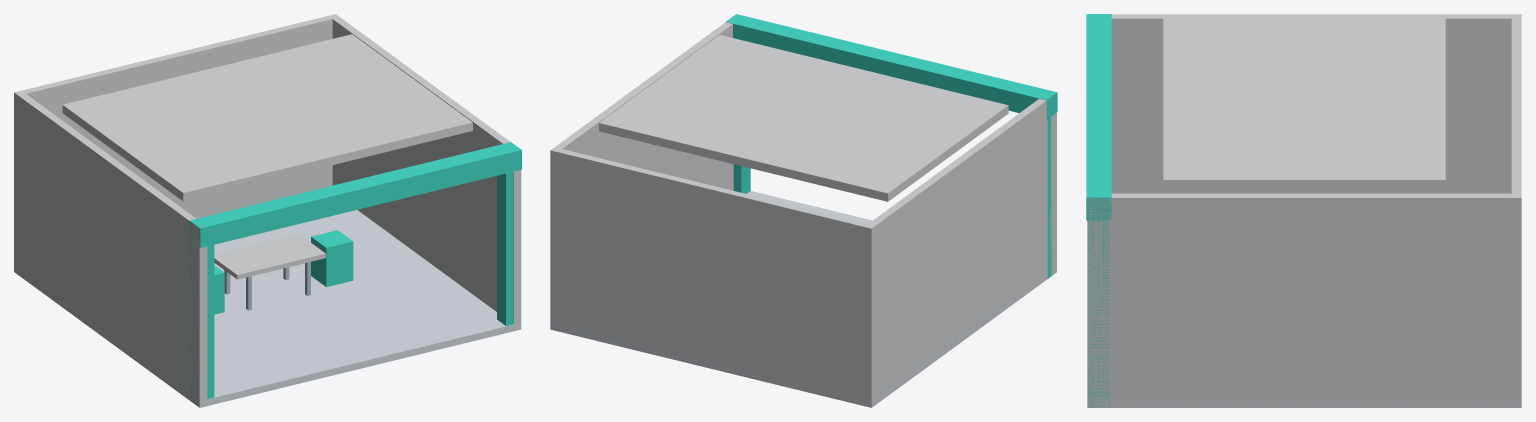
3 renders of one model, left to right at view 1: azimuth 30°, elevation 25°; view 2: azimuth 150°, elevation 25°; view 3: azimuth 270°, elevation 25°, orthographic. The views are drawn at different scales.
Parts seen in each view (by area): view 1: Exhibition Booth Concept; view 2: Exhibition Booth Concept; view 3: Exhibition Booth Concept.
Boxes of the visible parts, x1,y1,x2,y2 form: Exhibition Booth Concept: (14, 14, 521, 407); Exhibition Booth Concept: (550, 14, 1057, 407); Exhibition Booth Concept: (1086, 14, 1521, 407).
Bounding box in the file's own units: 6 × 3.34 × 6.02.
